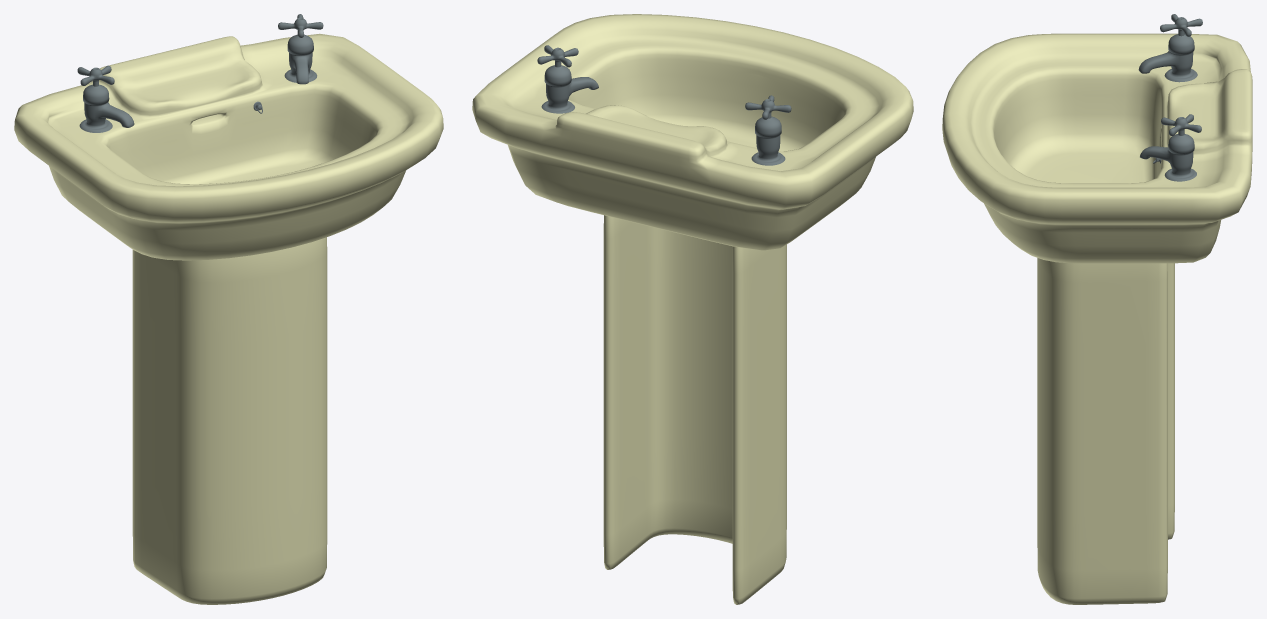
File: Sink.fbx
3 views of the same model, side by side, from view 1: azimuth 30°, elevation 25°; view 2: azimuth 150°, elevation 25°; view 3: azimuth 270°, elevation 25° (orthographic). The views are drawn at different scales.
Visible parts, largest first — view 1: Sink; view 2: Sink; view 3: Sink.
Part boxes in pixels (x1=…): Sink: x1=14, y1=14, x2=443, y2=604; Sink: x1=472, y1=14, x2=913, y2=604; Sink: x1=942, y1=14, x2=1252, y2=604.
Size of the model in its own units: 74.64 by 107 by 59.89.
